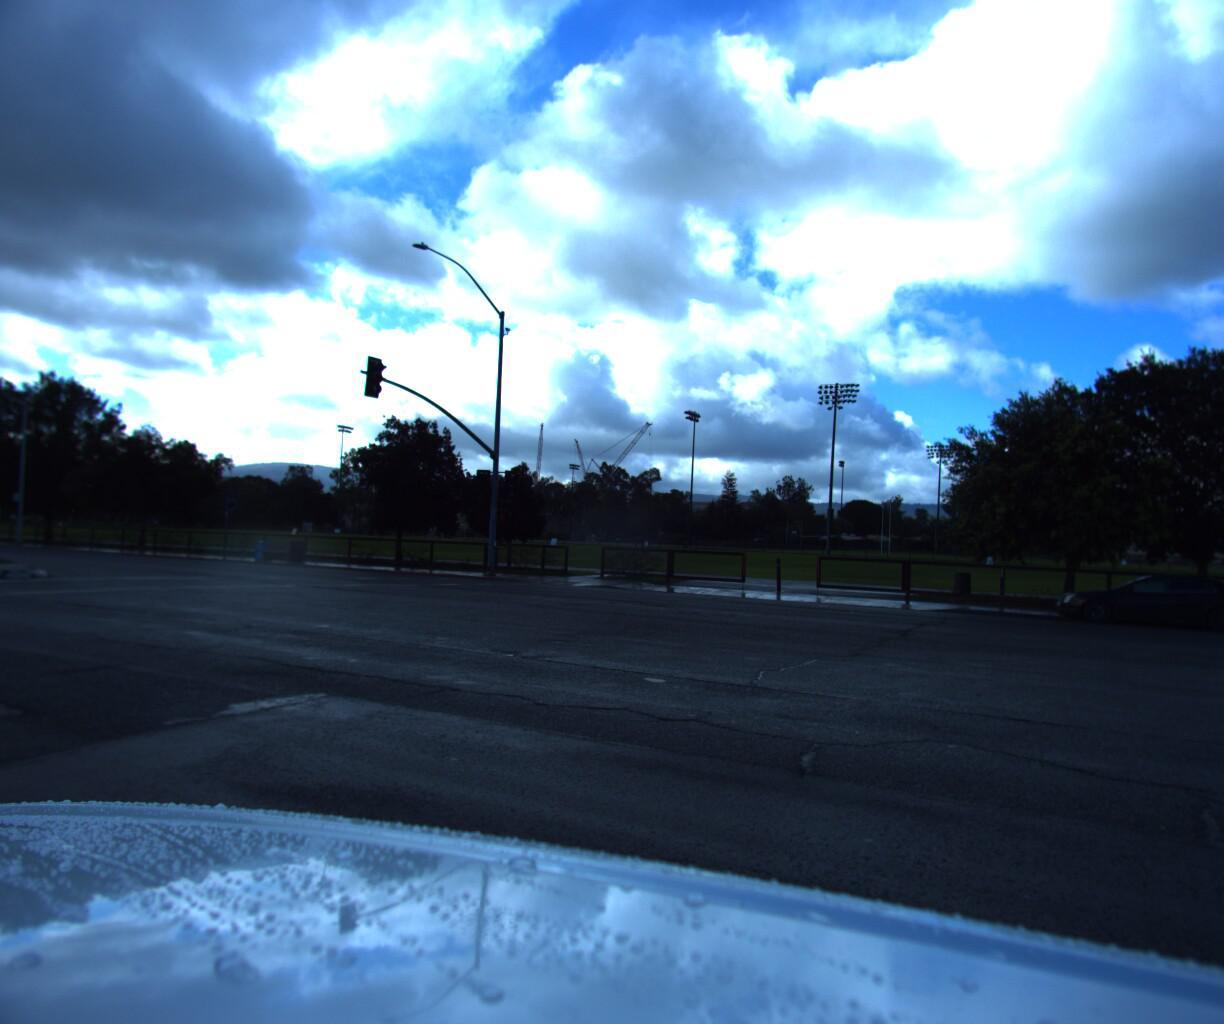car: (1049, 564, 1224, 643)
